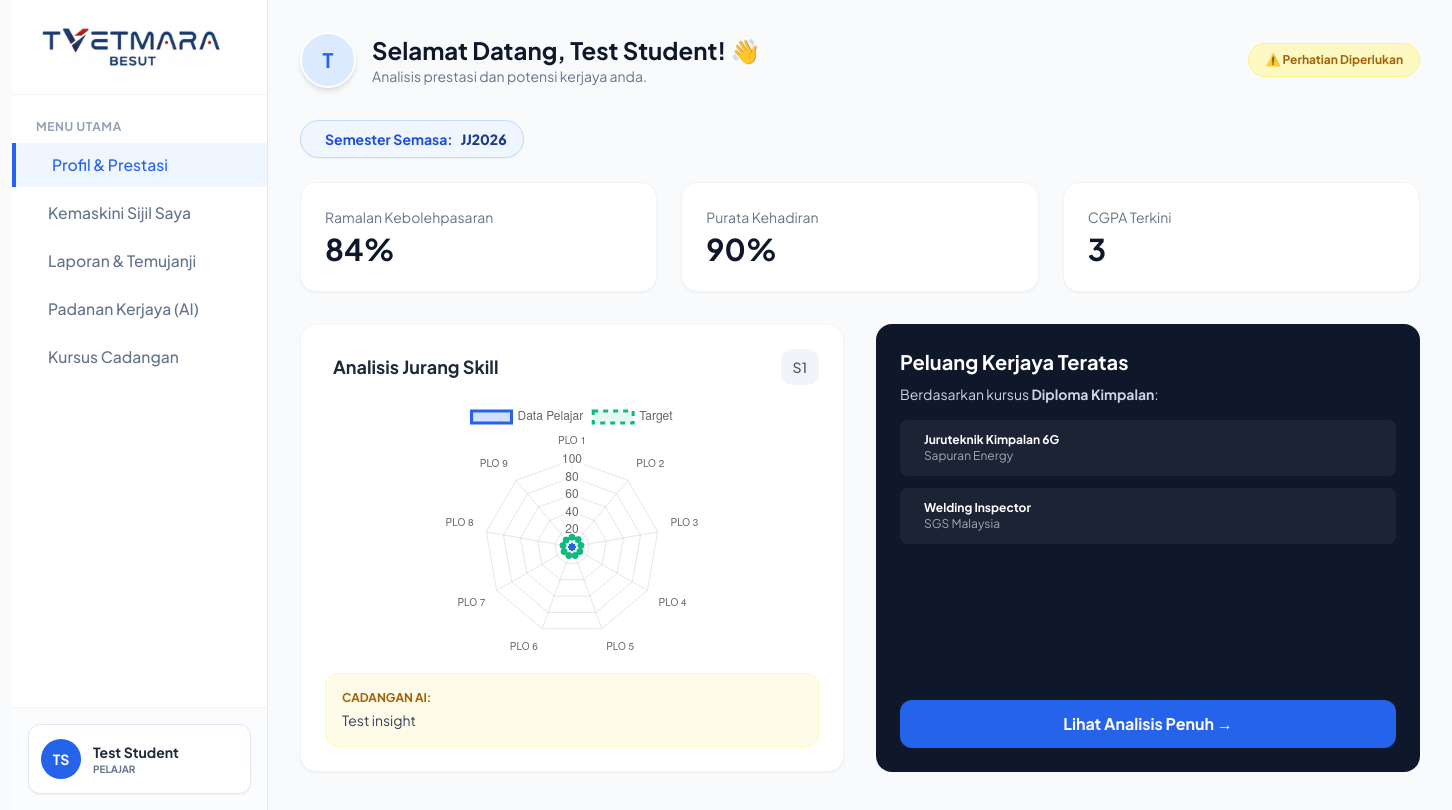
career tab › recovers from a search error and distinguishes empty results
The width and height of the screenshot is (1452, 810).
Expected: the text "Test insight" is shown, [342, 711, 416, 729]
Click the button "Padanan Kerjaya (AI)": (140, 309) [12, 287, 267, 331]
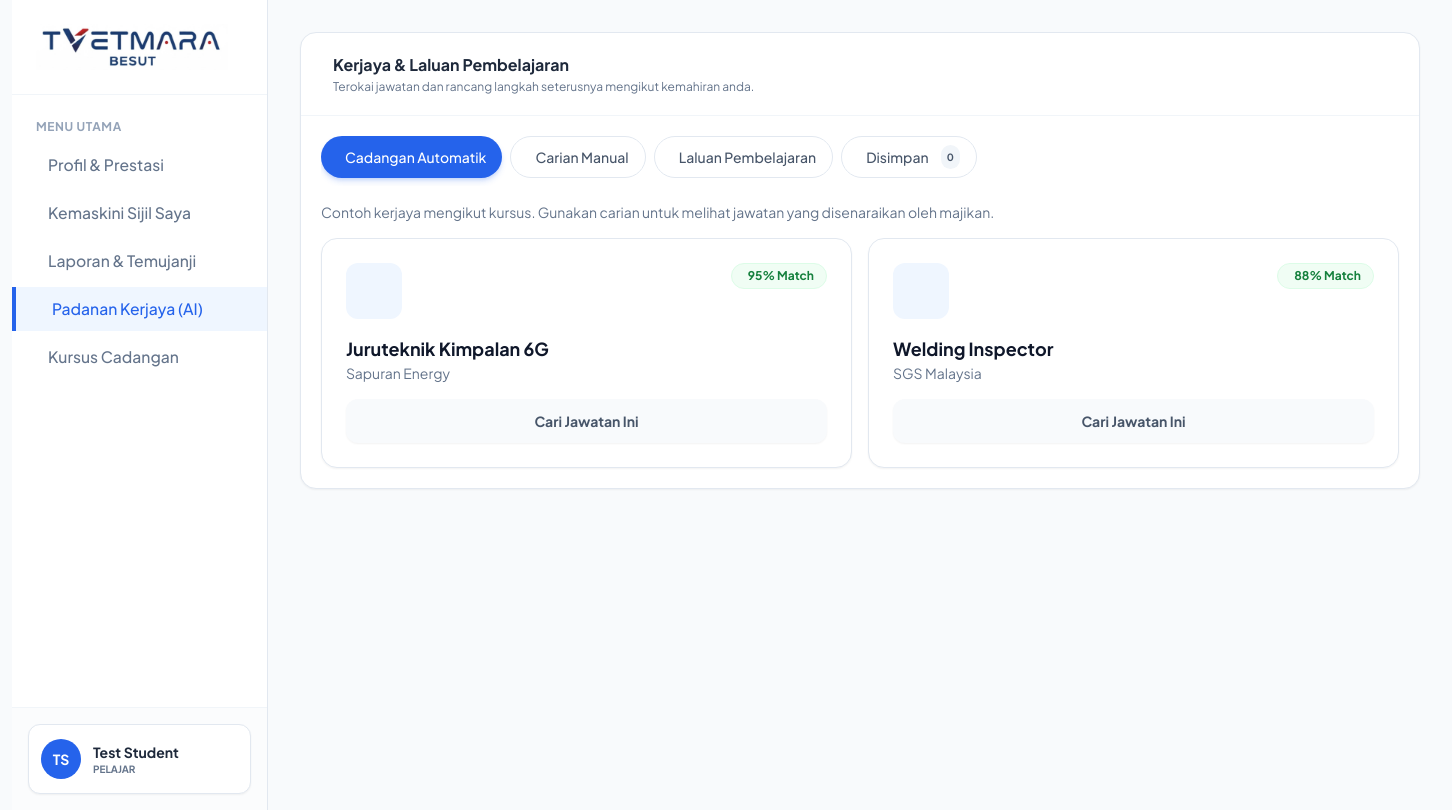
Click the button "Carian Manual": (578, 157) [510, 136, 646, 178]
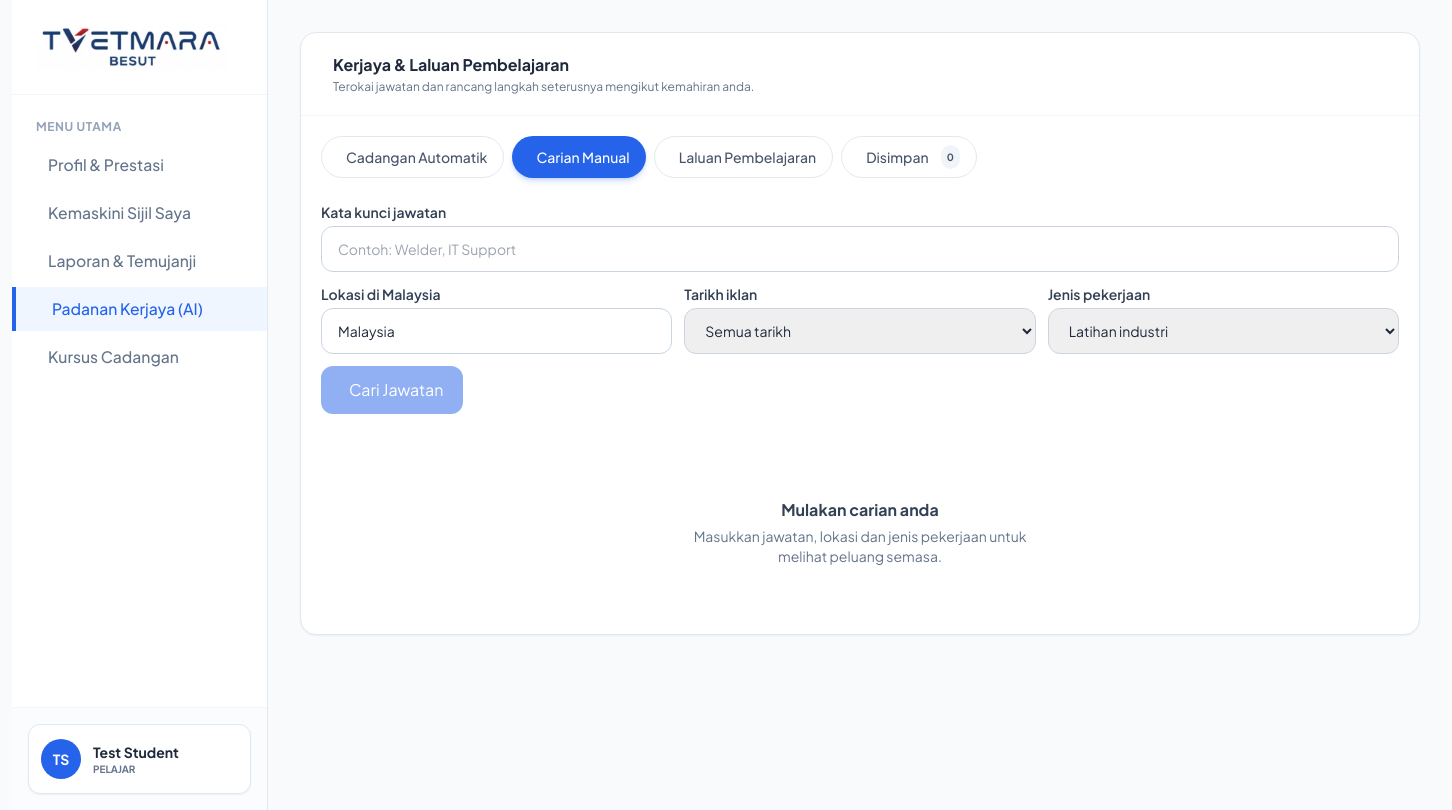
In the dropdown labelled "Kata kunci jawatan": (860, 249) [321, 226, 1399, 272], type "Welder"
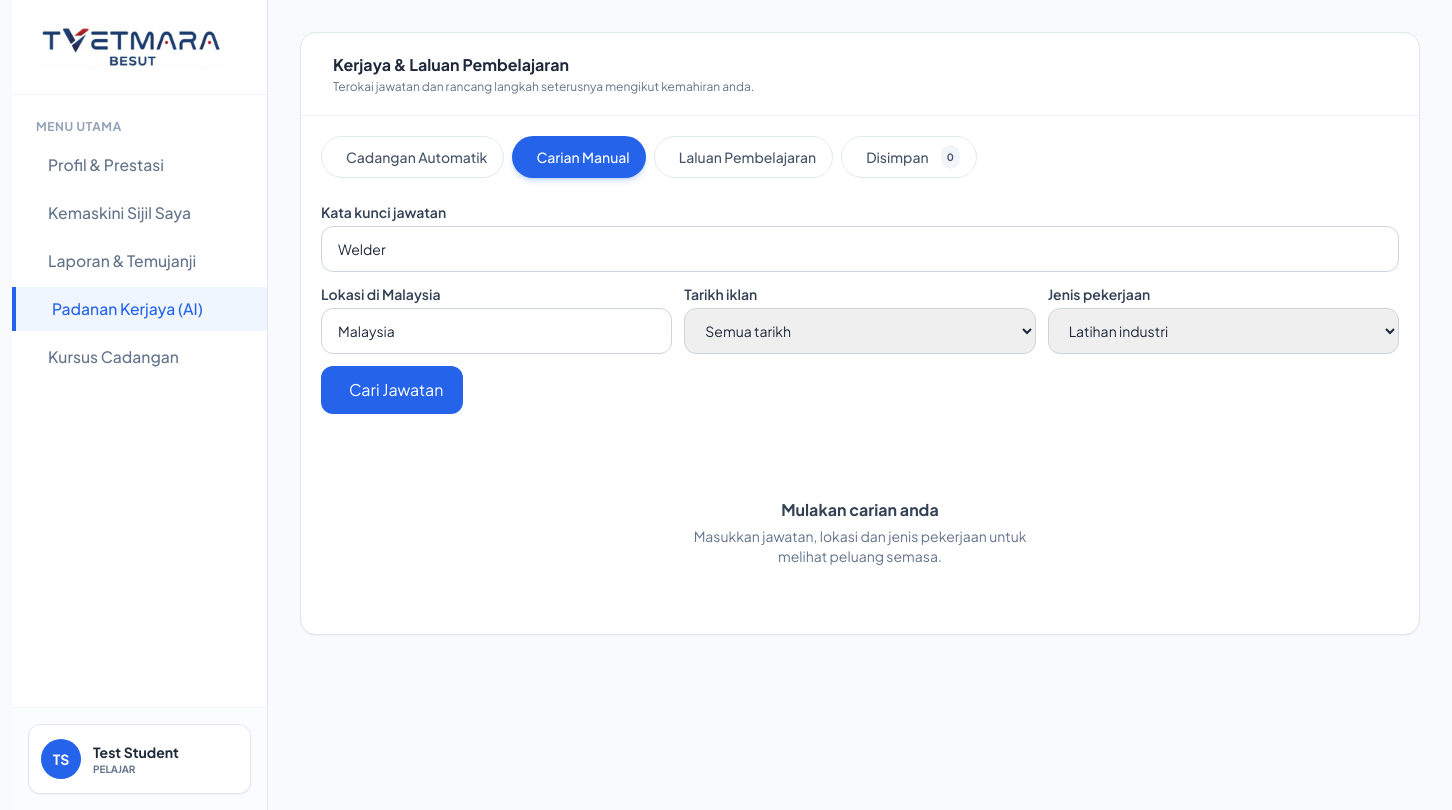
Click the button "Cari Jawatan": (392, 390) [321, 366, 463, 414]
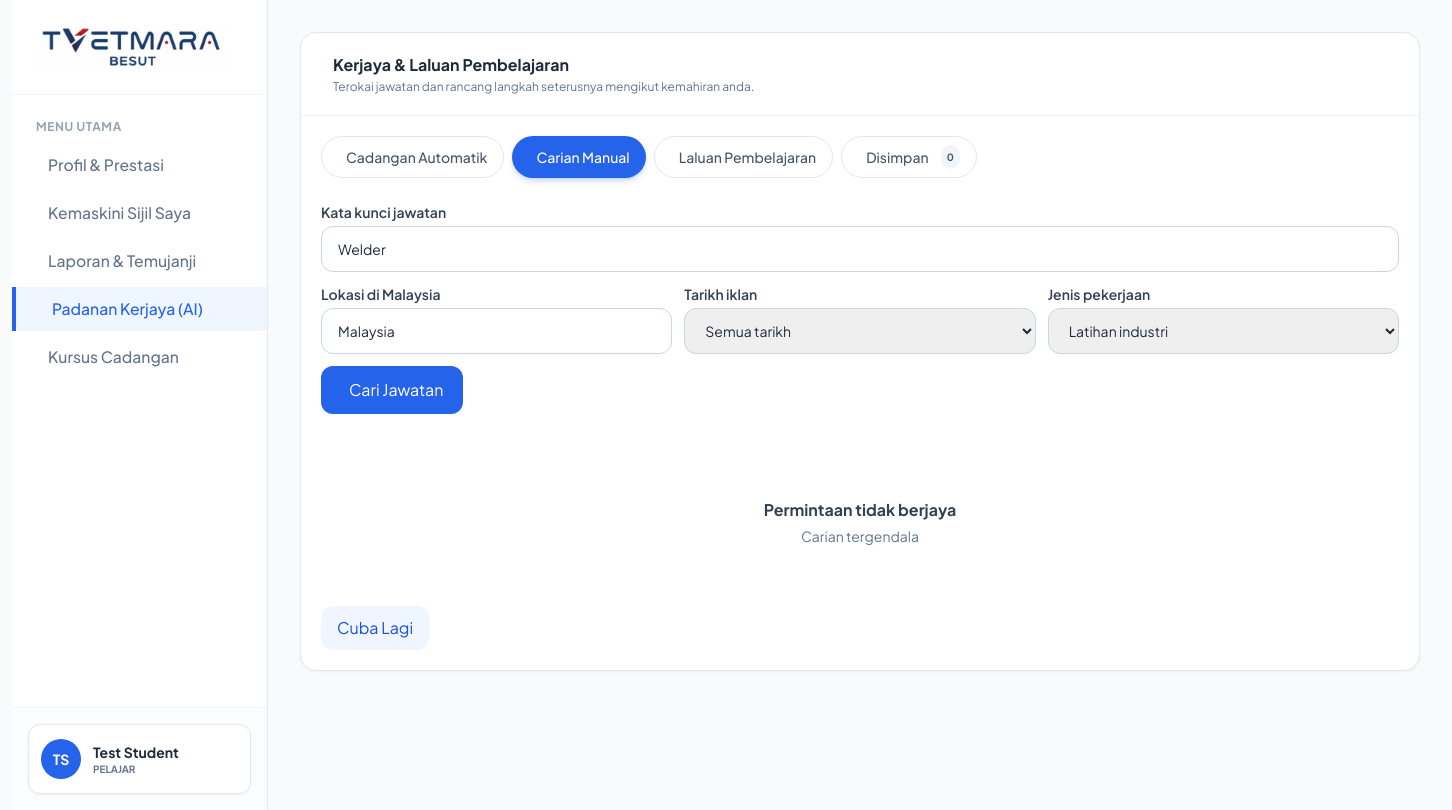
Expected: the button "Cari Jawatan" is enabled, [321, 366, 463, 414]
Expected: the text "Carian tergendala" is shown, [801, 526, 919, 546]
Click the button "Cuba Lagi": (375, 628) [321, 606, 429, 650]
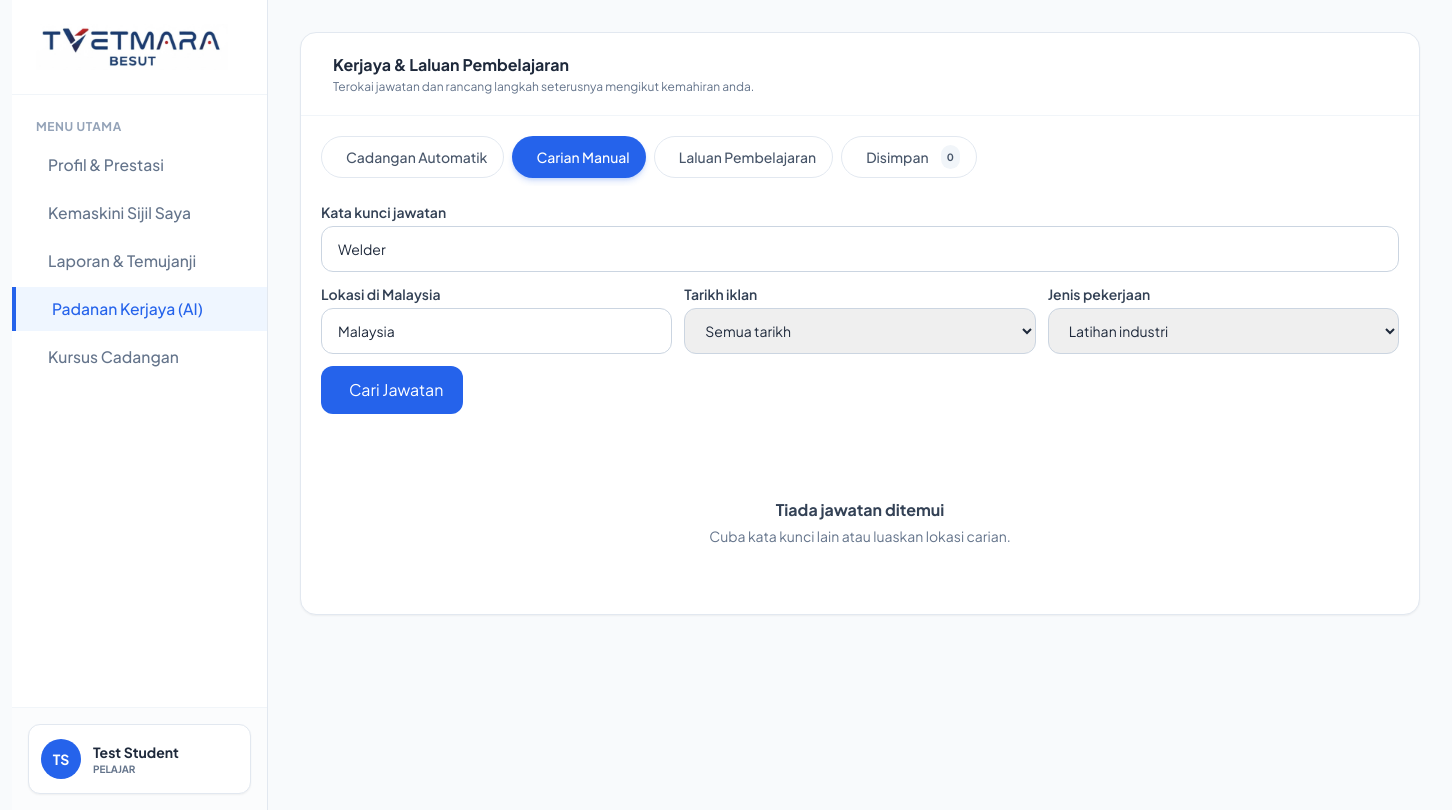
Expected: the heading "Tiada jawatan ditemui" is shown, [776, 498, 944, 522]
